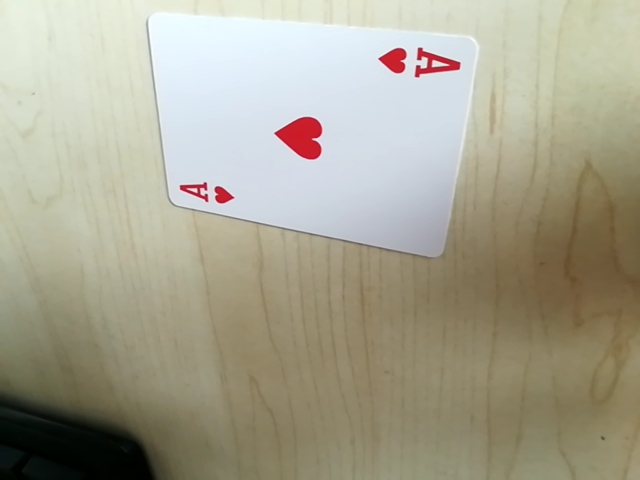hx a: (376, 39, 462, 88), (170, 173, 241, 209)
